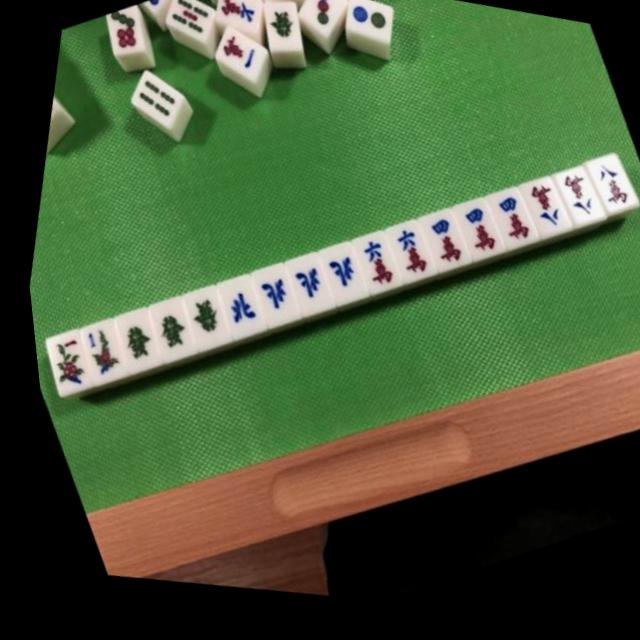bf1: (61, 313, 133, 392)
bs1: (27, 323, 100, 403)
hdg: (132, 296, 202, 372), (166, 287, 235, 362), (98, 306, 166, 380)
hwn: (237, 265, 307, 341), (271, 255, 339, 329), (203, 276, 270, 348), (307, 247, 371, 316)
sc4: (440, 203, 511, 279), (476, 195, 544, 269), (408, 217, 473, 287)
sc6: (373, 227, 439, 298), (342, 238, 406, 307)
sc8: (544, 173, 614, 250), (511, 185, 577, 256), (577, 165, 640, 236)
